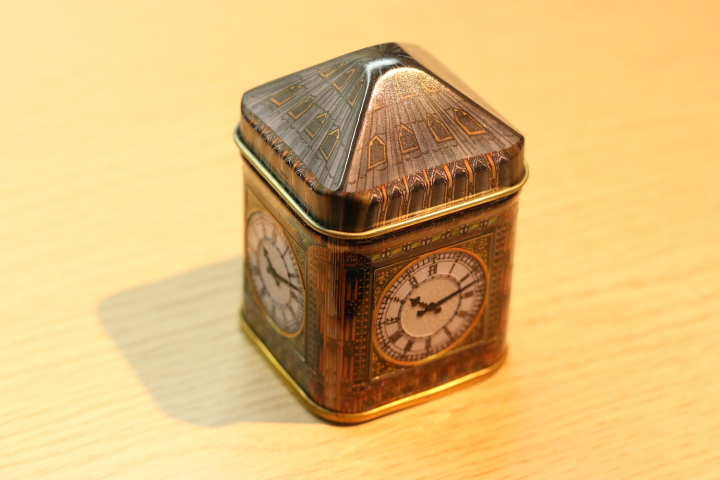Big Ben: (221, 23, 554, 442)
